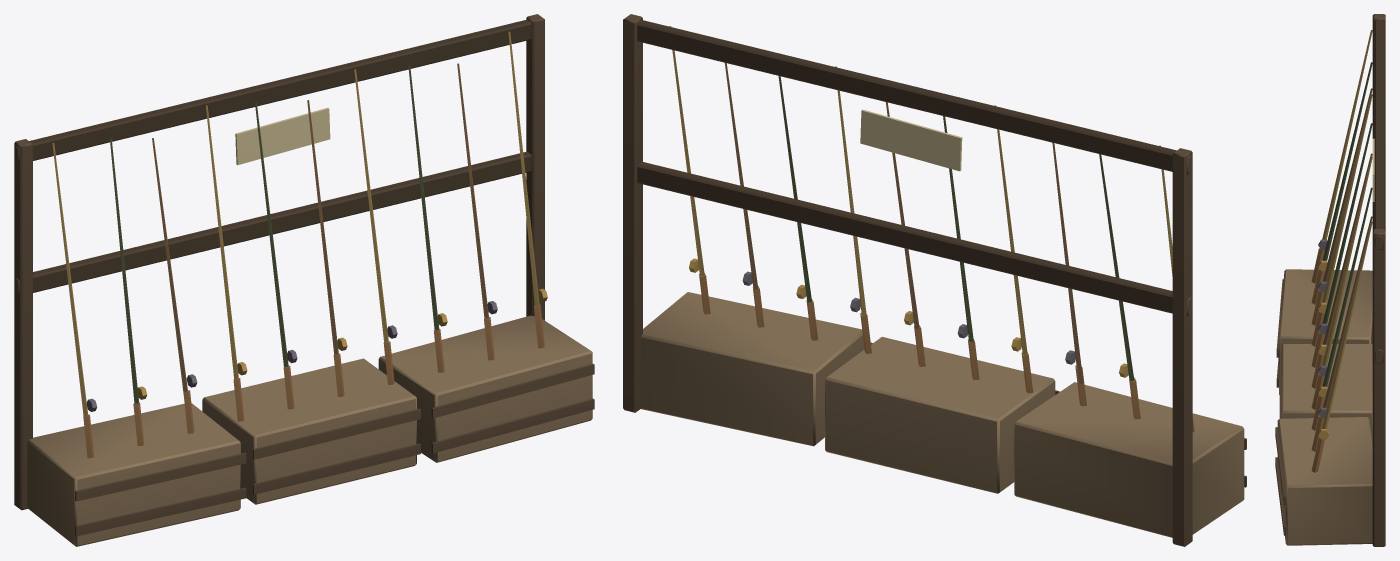
The model's file is rack_rods.glb.
The picture shows the model from 3 angles, left to right: view 1: azimuth 30°, elevation 25°; view 2: azimuth 150°, elevation 25°; view 3: azimuth 270°, elevation 25°; orthographic projection. The views are drawn at different scales.
Parts seen in each view (by area): view 1: rack_rods; view 2: rack_rods; view 3: rack_rods.
Boxes of the visible parts, x1,y1,x2,y2 form: rack_rods: [14, 14, 594, 546]; rack_rods: [623, 14, 1246, 546]; rack_rods: [1275, 14, 1385, 546].
Size of the model in its own units: 2.84 by 1.88 by 0.5995.
